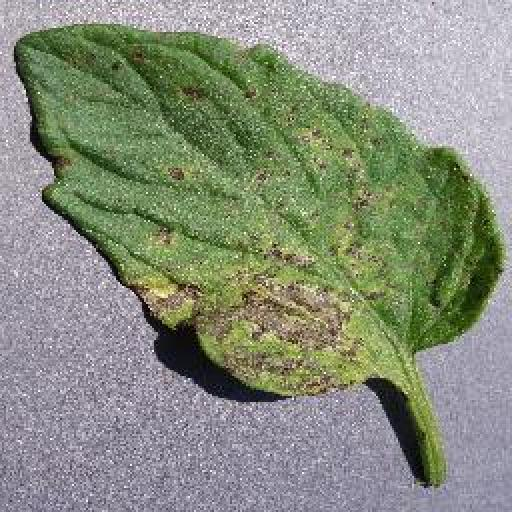disease_tomato: (14, 21, 504, 404)
